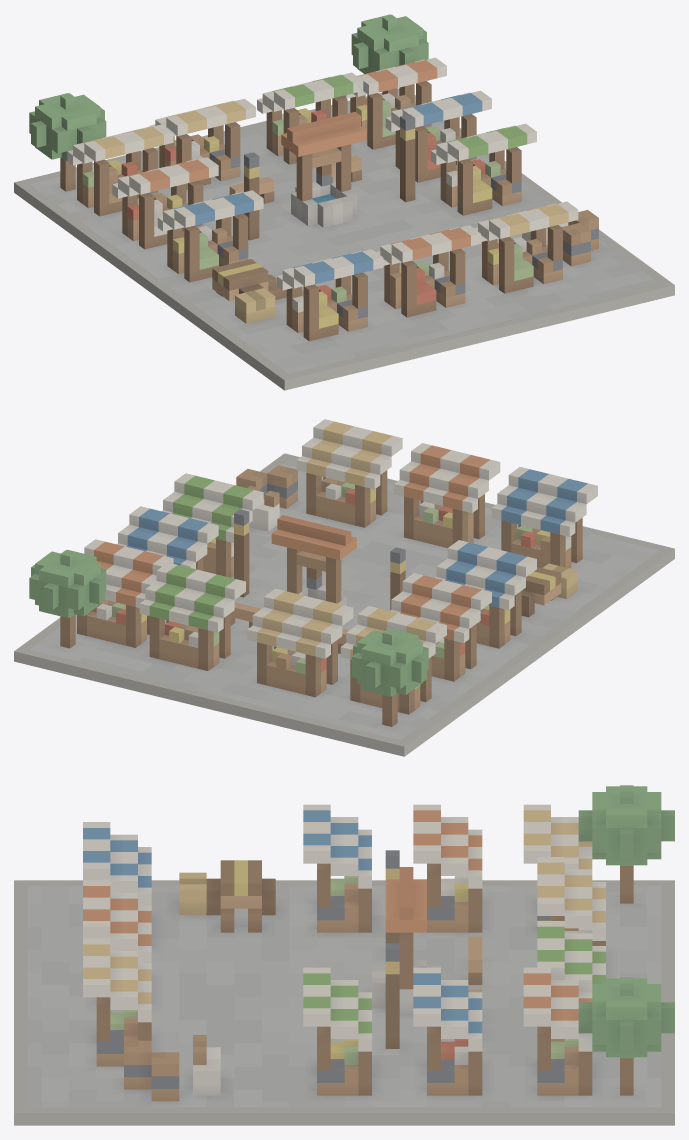
File: market.l1.glb
3 renders of one model, top to bottom at view 1: azimuth 30°, elevation 25°; view 2: azimuth 150°, elevation 25°; view 3: azimuth 270°, elevation 25°, orthographic. The views are drawn at different scales.
Parts seen in each view (by area): view 1: market; view 2: market; view 3: market.
Boxes of the visible parts, left/top/right/bottom form: market: left=14, top=14, right=674, bottom=390; market: left=14, top=419, right=674, bottom=756; market: left=14, top=785, right=674, bottom=1125.
Size of the model in its own units: 5 by 1.25 by 6.
